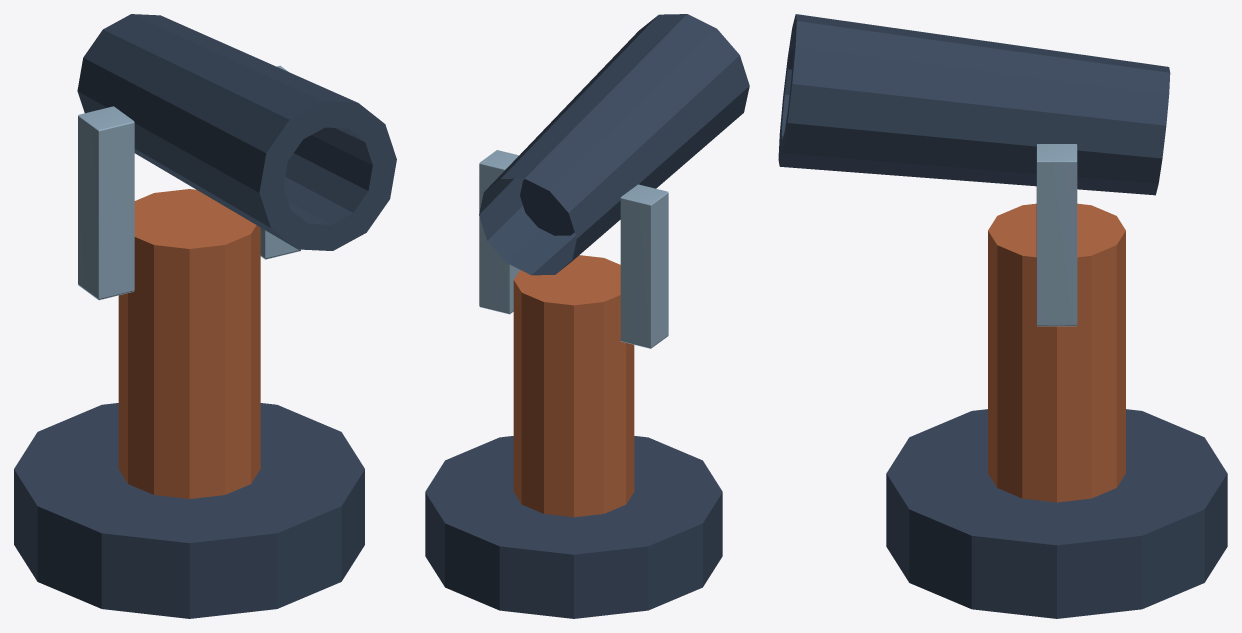
Rendered from swivel-gun.glb.
3 renders of one model, left to right at view 1: azimuth 30°, elevation 25°; view 2: azimuth 150°, elevation 25°; view 3: azimuth 270°, elevation 25°, orthographic. The views are drawn at different scales.
Parts seen in each view (by area): view 1: Pedestal foot, Swivel barrel, Gun pedestal, Swivel yoke, Swivel yoke.001; view 2: Pedestal foot, Swivel barrel, Gun pedestal, Swivel yoke, Swivel yoke.001; view 3: Swivel barrel, Pedestal foot, Gun pedestal, Swivel yoke.001.
Boxes of the visible parts, x1,y1,x2,y2 form: Pedestal foot: (14,403,364,618); Swivel barrel: (77,14,396,250); Gun pedestal: (118,189,260,498); Swivel yoke: (78,106,134,300); Swivel yoke.001: (260,65,300,259); Pedestal foot: (425,436,722,618); Swivel barrel: (479,14,749,275); Gun pedestal: (513,255,634,517); Swivel yoke: (620,184,668,348); Swivel yoke.001: (479,150,519,314); Swivel barrel: (778,14,1170,195); Pedestal foot: (886,409,1227,618); Gun pedestal: (988,203,1125,502); Swivel yoke.001: (1036,144,1077,326).
Size of the model in its own units: 0.84 by 1.43 by 1.11.
